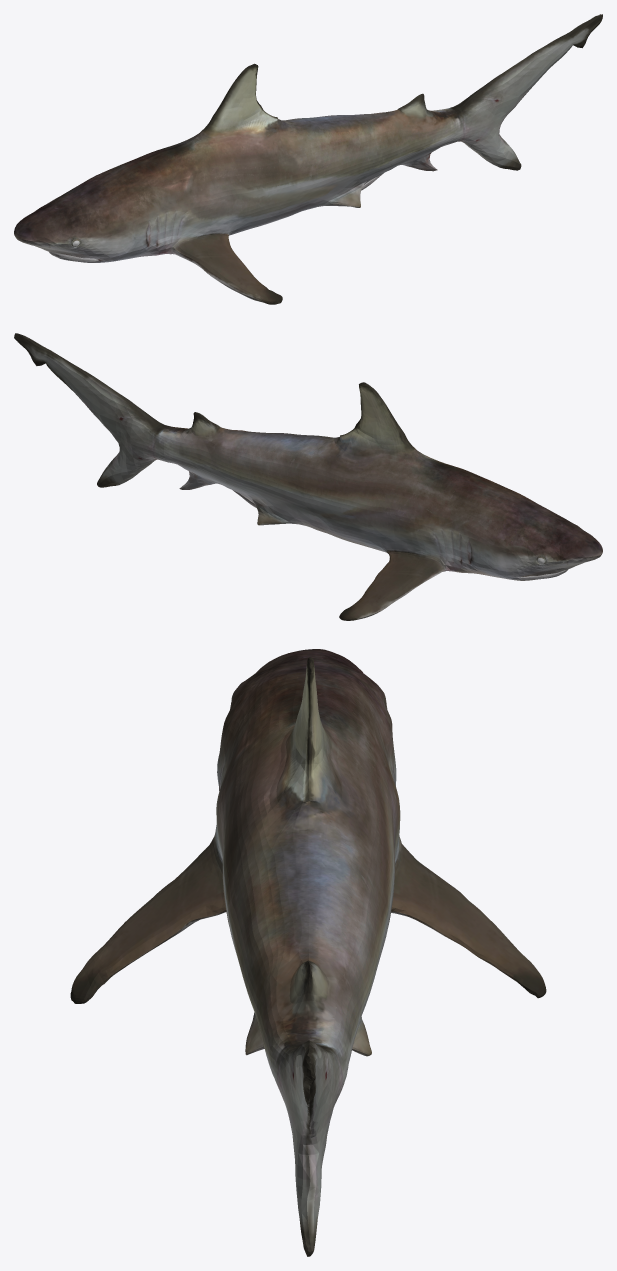
The model's file is shark.glb.
3 views of the same model, one above another, from view 1: azimuth 30°, elevation 25°; view 2: azimuth 150°, elevation 25°; view 3: azimuth 270°, elevation 25° (orthographic). The views are drawn at different scales.
Visible parts, largest first — view 1: 78075; view 2: 78075; view 3: 78075.
Boxes of the visible parts, x1,y1,x2,y2 form: 78075: (14,14,602,304); 78075: (14,333,602,620); 78075: (70,649,546,1256).
Size of the model in its own units: 2.57 by 0.7883 by 0.9053.
2 materials, 1 textured.
